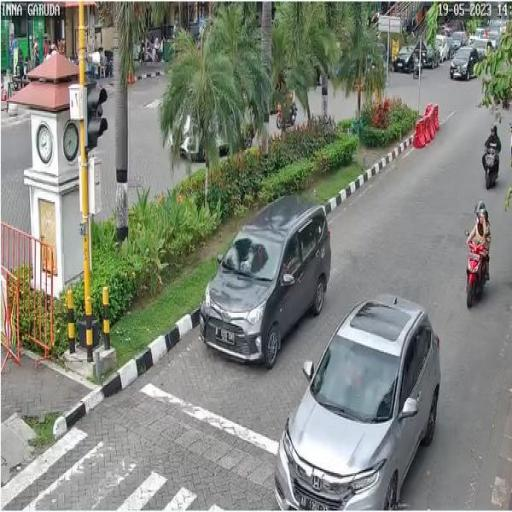mobil: (274, 293, 441, 512), (196, 198, 334, 366)
motor: (463, 228, 491, 314), (477, 142, 506, 192)
